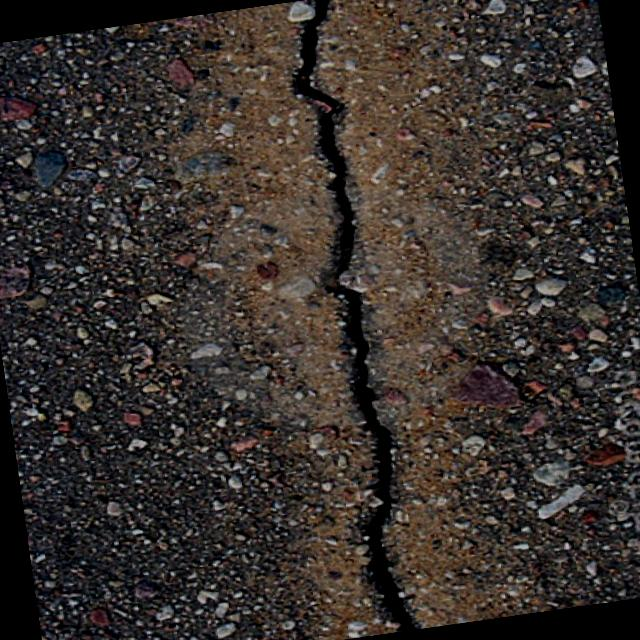crack: (276, 0, 424, 635)
